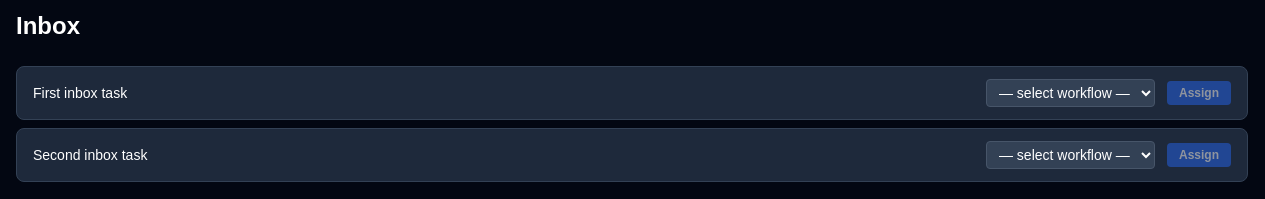
Test: removes the assigned task from the list after a successful PATCH
Expected: the text "First inbox task" is shown, [33,85,127,101]
Expected: the text "Second inbox task" is shown, [33,147,147,163]
Select "Alpha" in the dropdown named "Assign \"First inbox task\" to a workflow" at (1070, 93), box [986,79,1155,107]
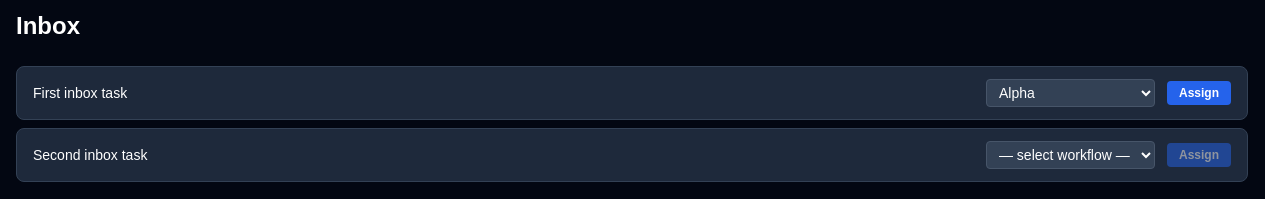
Click the button "Assign" in the row of "First inbox task" at (1199, 93), box [1167,81,1231,105]
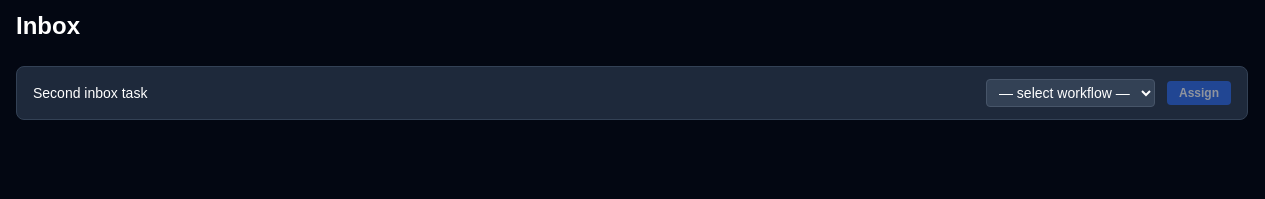
Expected: the text "Second inbox task" is shown, [33,85,147,101]
Expected: the text "First inbox task" is gone
